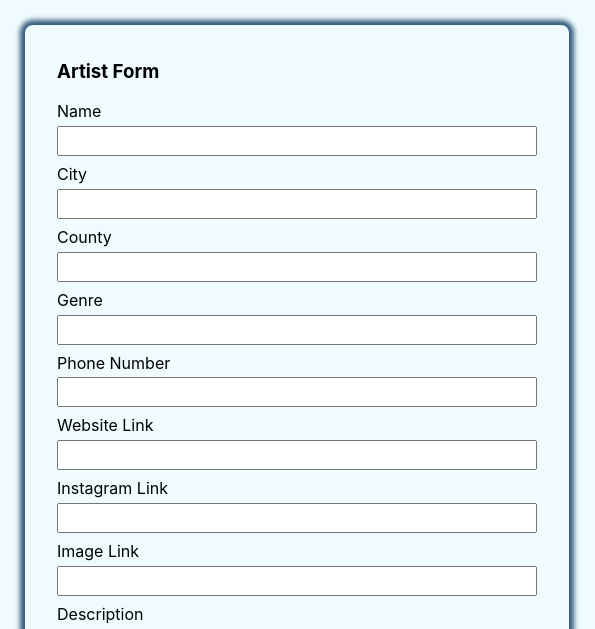
Test: <CreateArtist /> › displays error message when incorrect input is entered in image field
The image size is (595, 629).
In the field with test id "artist-imageLink-input": {"x": 297, "y": 581} [57,566,537,596], type "djd8327b"
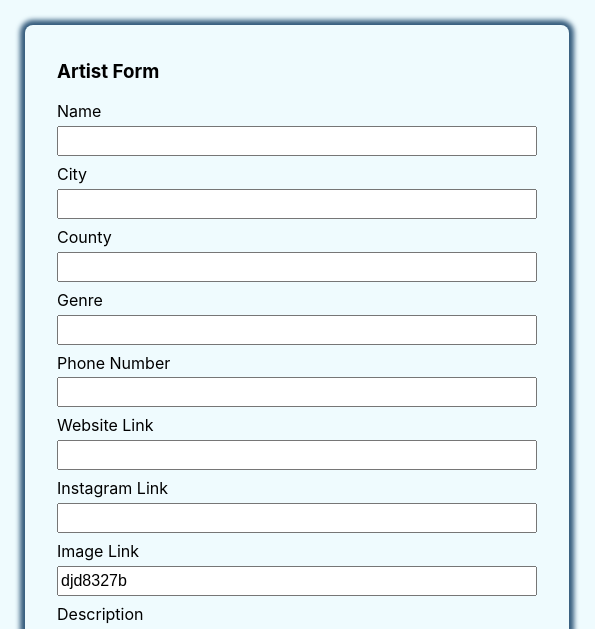
Leave the field with test id "artist-imageLink-input", box [57,566,537,596]
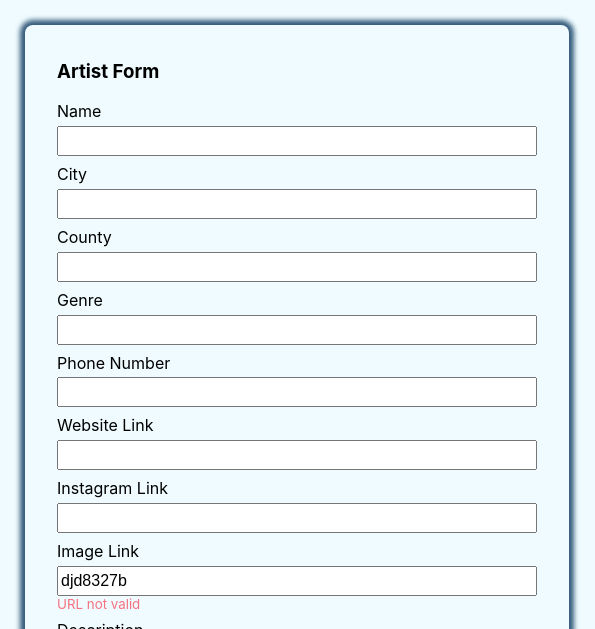
Check: the text with test id "artist-imageLink-input-error" reads "URL not valid", box [57,596,140,612]
